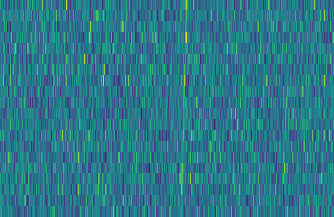signal: (176, 0, 191, 217)
